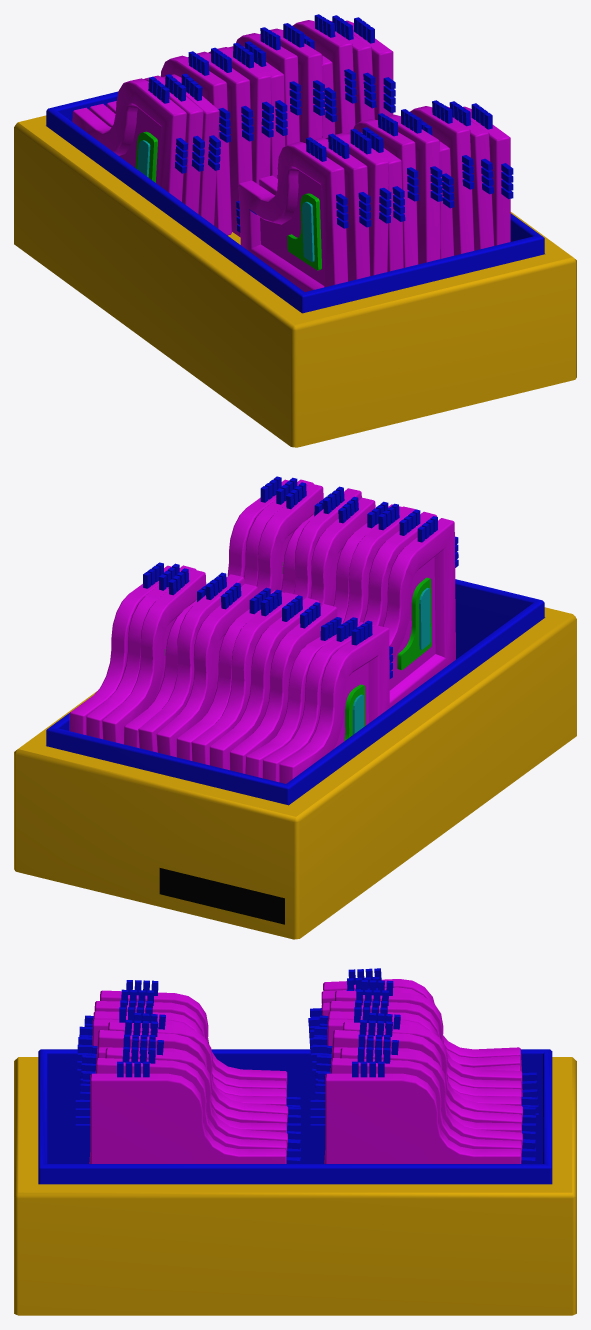
The model's file is SM0079_Lobby_PremiumChip_01_C2.fbx.
3 views of the same model, one above another, from view 1: azimuth 30°, elevation 25°; view 2: azimuth 150°, elevation 25°; view 3: azimuth 270°, elevation 25° (orthographic).
Parts seen in each view (by area): view 1: SM0079_Lobby_PremiumChip_01_C2; view 2: SM0079_Lobby_PremiumChip_01_C2; view 3: SM0079_Lobby_PremiumChip_01_C2.
Part boxes in pixels (x1,y1,x2,y2): SM0079_Lobby_PremiumChip_01_C2: [14, 14, 576, 447]; SM0079_Lobby_PremiumChip_01_C2: [14, 476, 576, 939]; SM0079_Lobby_PremiumChip_01_C2: [14, 968, 576, 1315].
Size of the model in its own units: 147 by 251 by 120.
